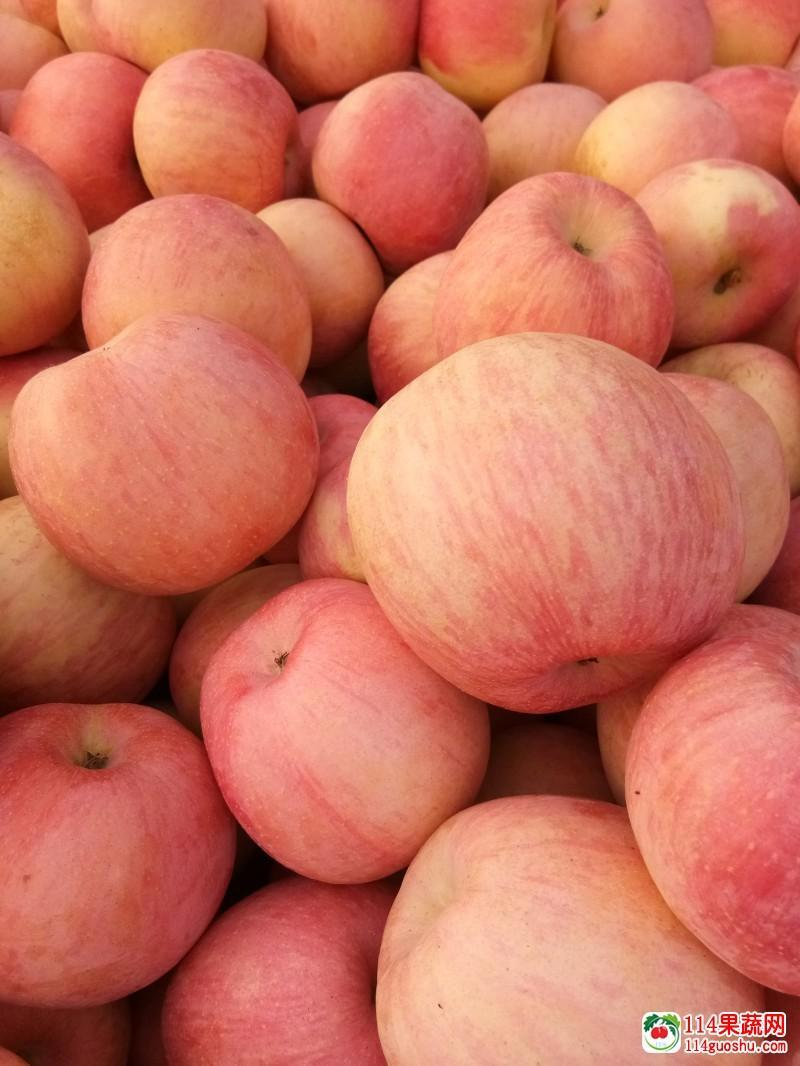apple: (336, 331, 749, 713), (371, 793, 771, 1060), (201, 577, 497, 886), (9, 313, 321, 592), (1, 708, 237, 1030), (624, 625, 795, 993), (432, 167, 674, 386), (158, 855, 398, 1054), (77, 196, 311, 398), (314, 69, 485, 255), (622, 156, 793, 341), (130, 50, 298, 213), (415, 1, 555, 117), (703, 2, 798, 72)
